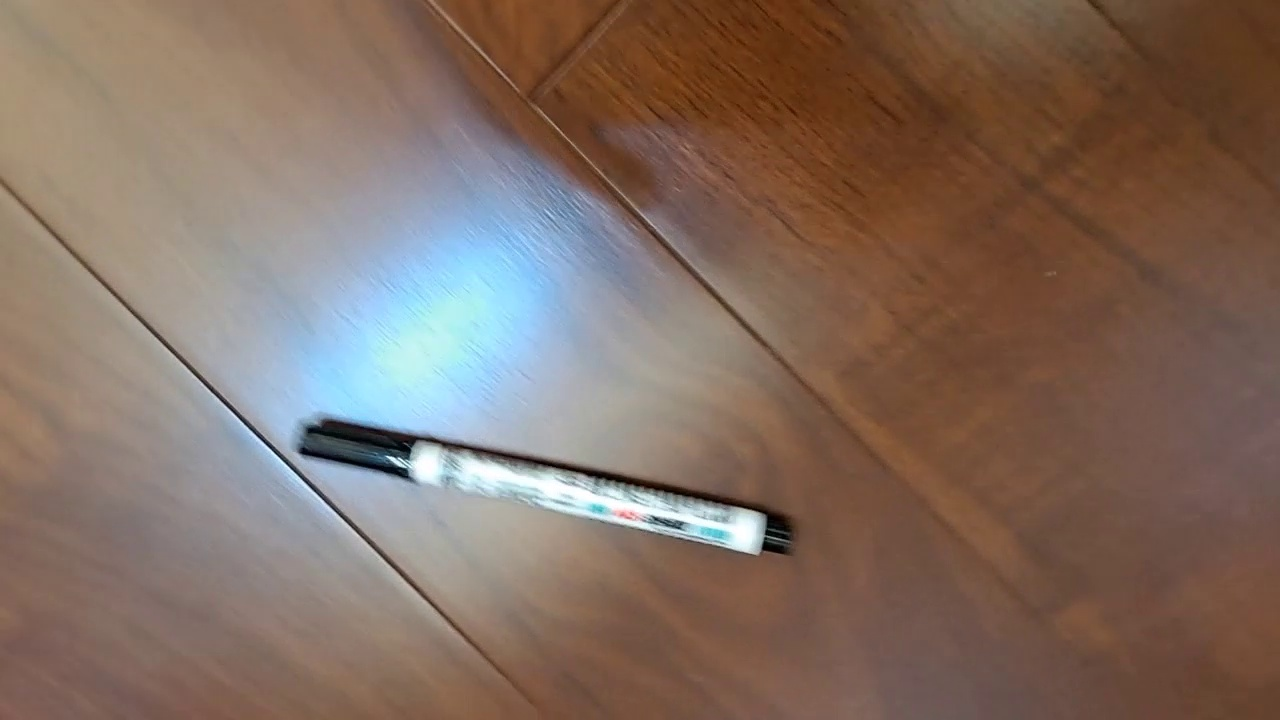pen: (291, 420, 796, 558)
